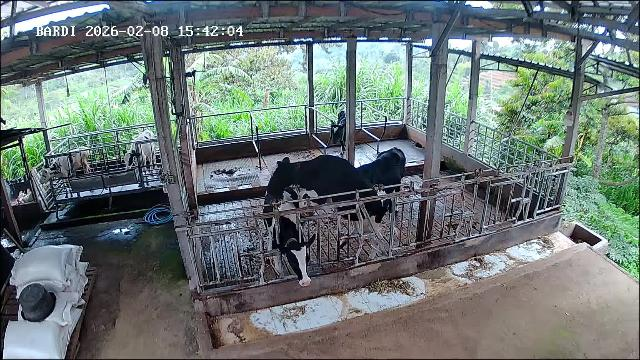mounting: (267, 155, 384, 253)
